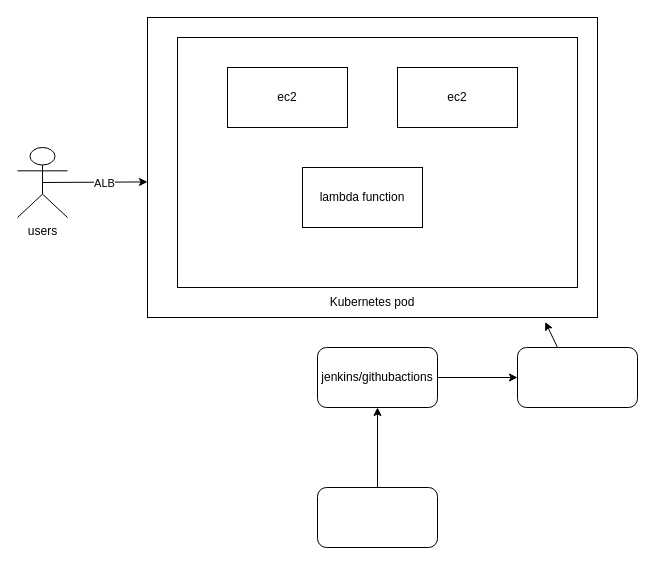
Some shapes in this 655 by 565 pixel diagram are drawn without their labels. The centre of each missing label's shape, as x and y in pixels:
"Argocd" belongs at point (577, 377).
"Docker Image" belongs at point (377, 517).
